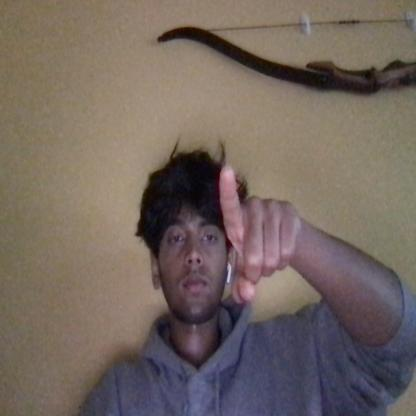finger_point: (200, 140, 253, 206)
